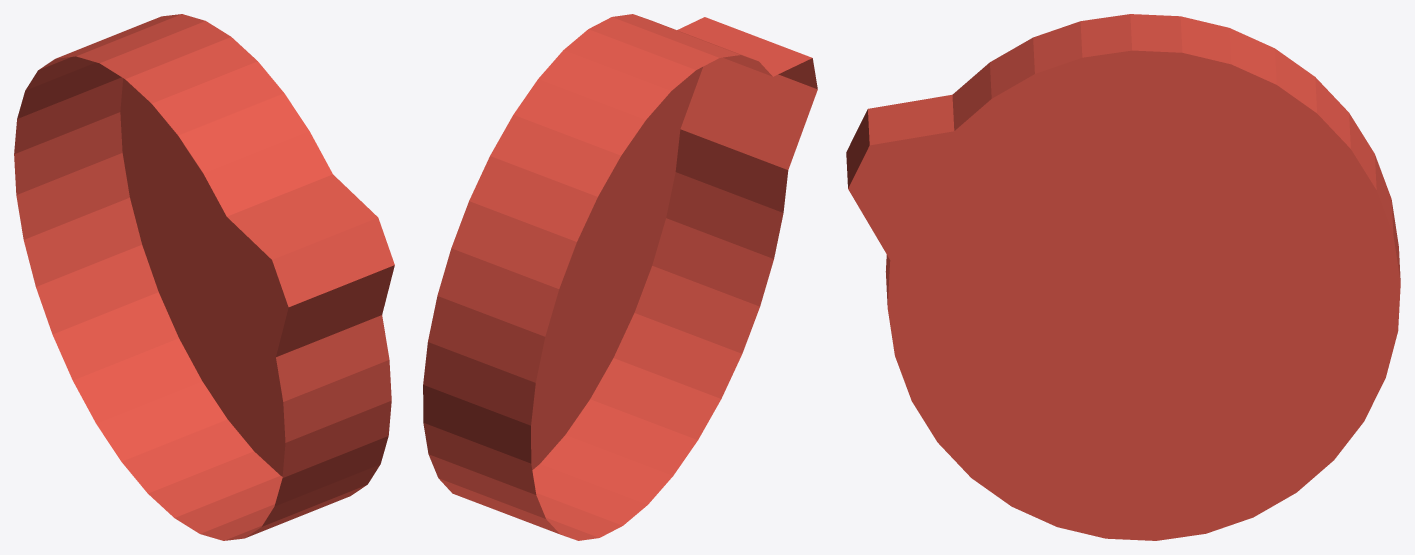
Rendered from kitchen_hob_v1_hand_.fbx.
3 views of the same model, side by side, from view 1: azimuth 30°, elevation 25°; view 2: azimuth 150°, elevation 25°; view 3: azimuth 270°, elevation 25° (orthographic).
Visible parts, largest first — view 1: kitchen_hob_v1_hand_low; view 2: kitchen_hob_v1_hand_low; view 3: kitchen_hob_v1_hand_low.
Part boxes in pixels (bbox=[...]): kitchen_hob_v1_hand_low: bbox=[14, 14, 394, 540]; kitchen_hob_v1_hand_low: bbox=[423, 14, 817, 540]; kitchen_hob_v1_hand_low: bbox=[846, 14, 1400, 540].
Bounding box in the file's own units: 1.96 × 5.29 × 5.58.
